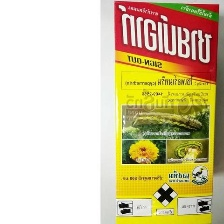carton: (110, 0, 221, 224)
